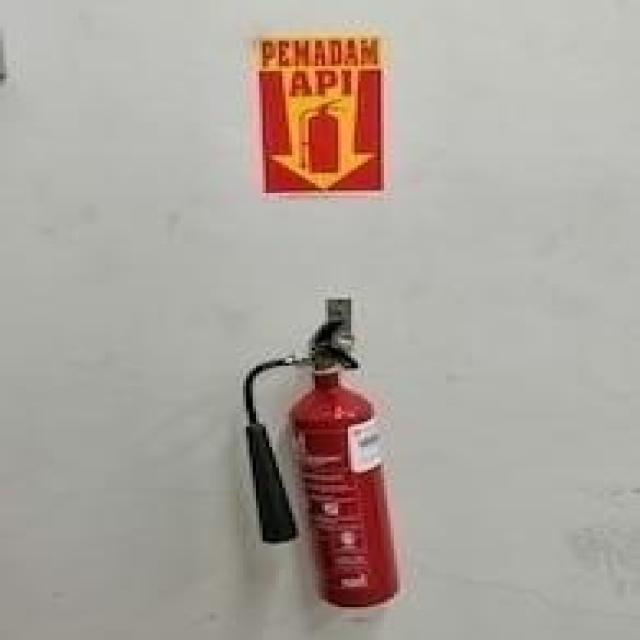fire_extinguisher: (232, 311, 406, 611)
